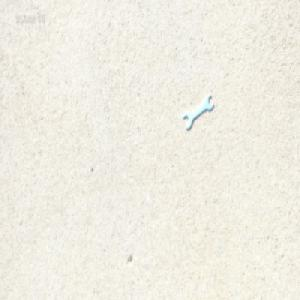Wrench: (183, 93, 213, 128)
